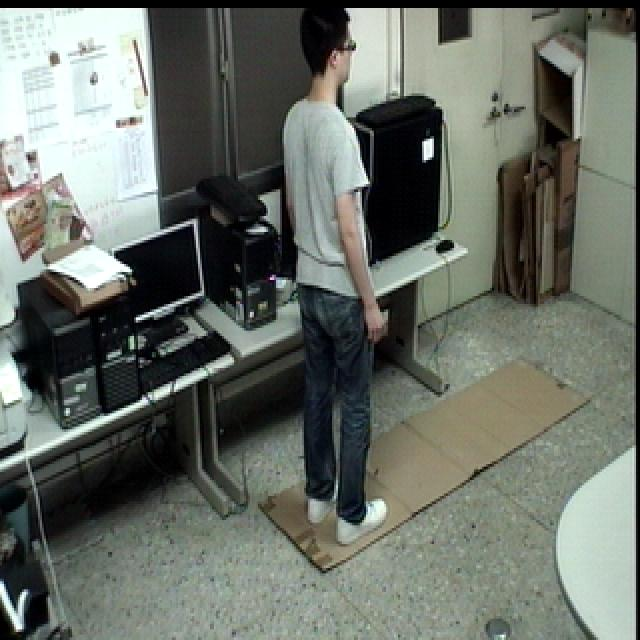stand: (266, 1, 402, 552)
